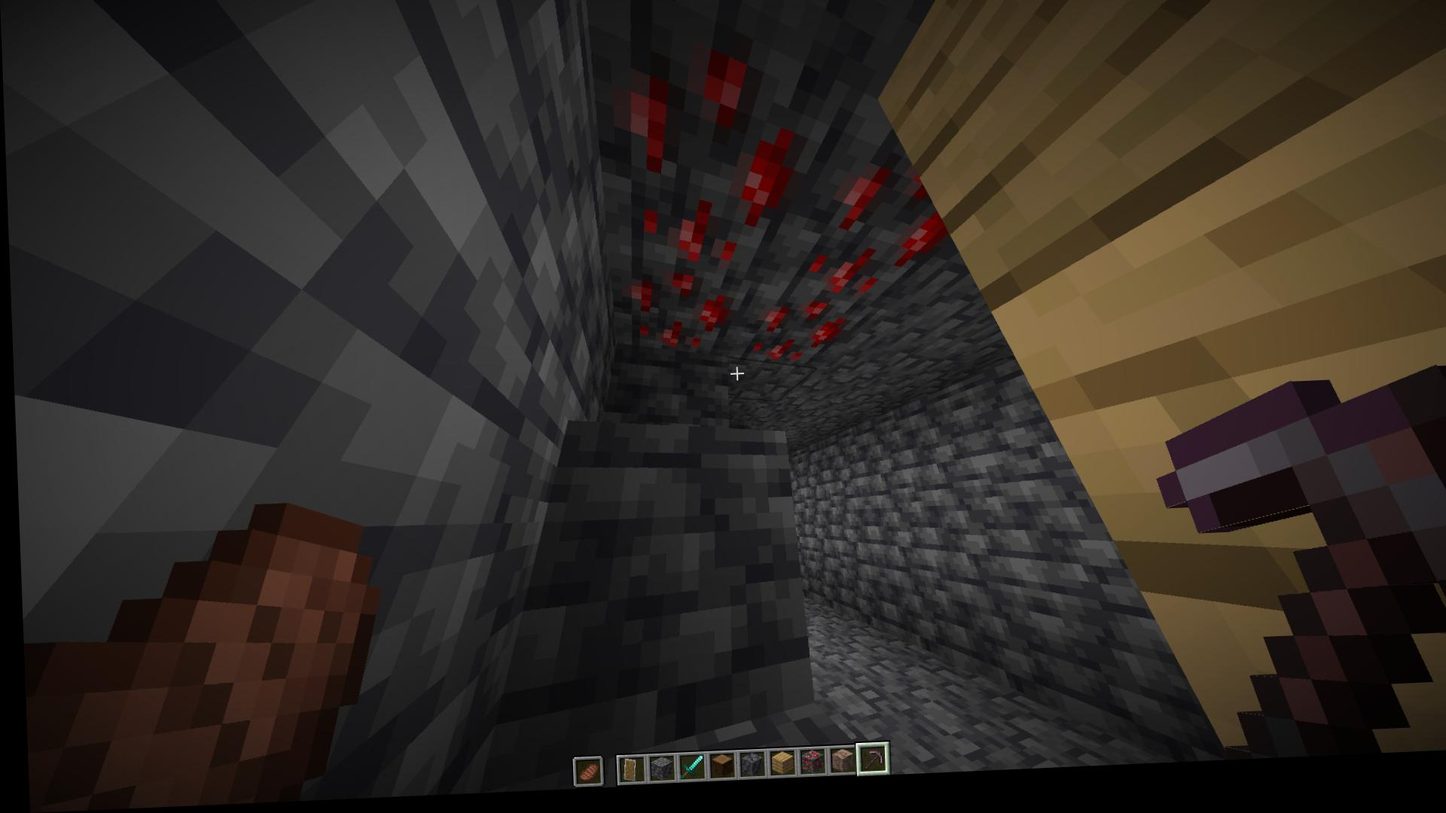redstone ore: (596, 51, 794, 279), (793, 165, 947, 291), (606, 272, 725, 368), (746, 303, 824, 382)
